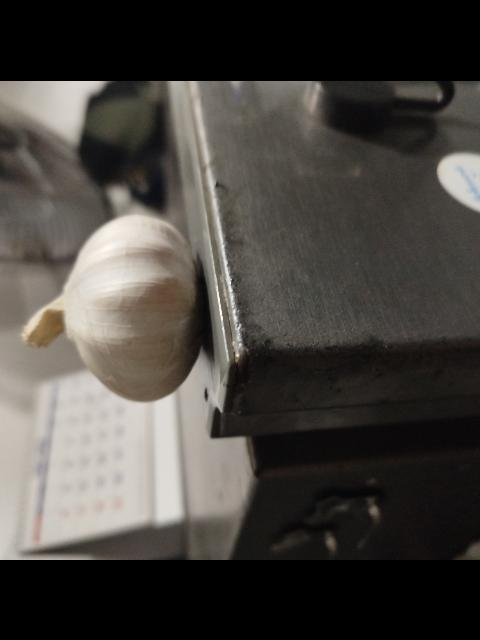garlic: (20, 212, 206, 402)
